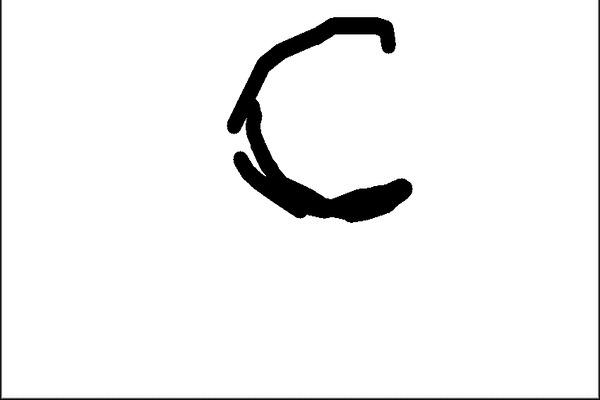C: (219, 6, 417, 227)
